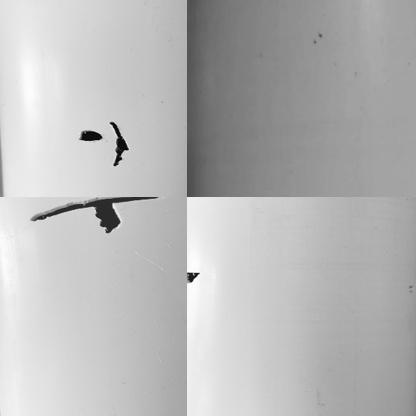fengxi: (27, 195, 162, 226)
kongdong: (109, 114, 131, 170), (91, 203, 122, 236), (75, 126, 105, 145), (184, 268, 204, 286)
